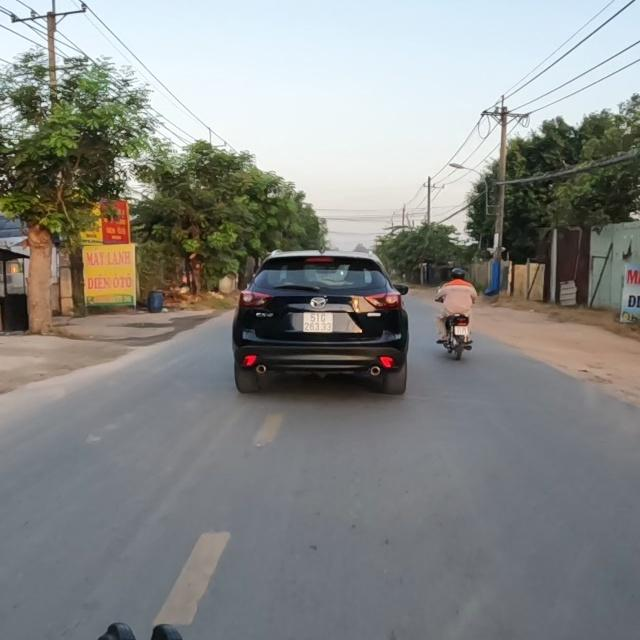license-plate: (301, 310, 334, 334), (454, 325, 470, 336)
